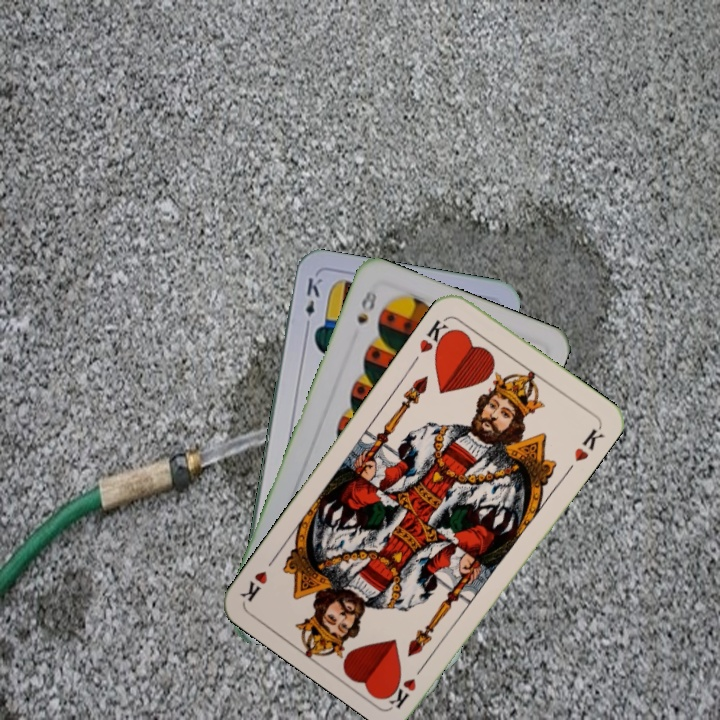EK: (301, 273, 325, 332)
HK: (386, 656, 431, 710), (415, 315, 456, 358)
S8: (353, 286, 380, 327)
